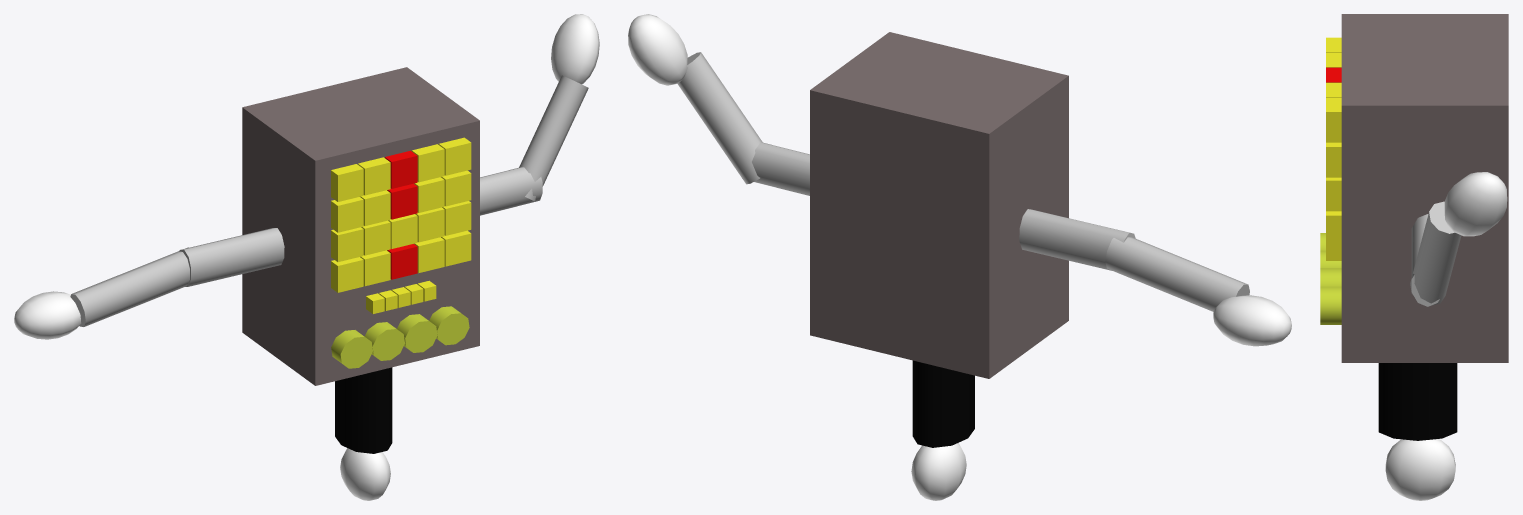
The model's file is meta4.obj.
3 views of the same model, side by side, from view 1: azimuth 30°, elevation 25°; view 2: azimuth 150°, elevation 25°; view 3: azimuth 270°, elevation 25° (orthographic). The views are drawn at different scales.
Visible parts, largest first — view 1: 037_Box, 007_Cylinder_4_-_baked, 002_Cylinder_8, 001_Cylinder_7, 000_Cylinder_6, 005_Sphere_1, 003_Sphere_2, 004_Cylinder_5, 006_Sphere, 010_Cylinder_1, 008_Cylinder_2, 009_Cylinder_3 (+21 smaller); view 2: 037_Box, 002_Cylinder_8, 007_Cylinder_4_-_baked, 000_Cylinder_6, 001_Cylinder_7, 003_Sphere_2, 005_Sphere_1, 006_Sphere, 004_Cylinder_5; view 3: 037_Box, 007_Cylinder_4_-_baked, 006_Sphere, 005_Sphere_1, 000_Cylinder_6, 009_Cylinder_3, 004_Cylinder_5, 012_Box_26, 024_Box_11_-_baked, 027_Box_25, 036_Box_20, 008_Cylinder_2 (+6 smaller).
Part boxes in pixels (box(x1,y1,x2,y2)): 037_Box: box(242, 67, 479, 385); 007_Cylinder_4_-_baked: box(335, 367, 392, 453); 002_Cylinder_8: box(70, 247, 189, 326); 001_Cylinder_7: box(179, 228, 284, 286); 000_Cylinder_6: box(519, 75, 588, 201); 005_Sphere_1: box(551, 14, 599, 84); 003_Sphere_2: box(14, 291, 81, 339); 004_Cylinder_5: box(480, 167, 542, 215); 006_Sphere: box(340, 448, 390, 500); 010_Cylinder_1: box(331, 330, 372, 368); 008_Cylinder_2: box(397, 314, 437, 352); 009_Cylinder_3: box(429, 306, 469, 345); 037_Box: box(810, 32, 1068, 378); 002_Cylinder_8: box(1105, 237, 1249, 311); 007_Cylinder_4_-_baked: box(912, 360, 974, 447); 000_Cylinder_6: box(677, 52, 762, 184); 001_Cylinder_7: box(1019, 209, 1135, 270); 003_Sphere_2: box(1213, 295, 1291, 346); 005_Sphere_1: box(628, 14, 687, 85); 006_Sphere: box(911, 443, 966, 500); 004_Cylinder_5: box(752, 142, 809, 195); 037_Box: box(1341, 14, 1508, 362); 007_Cylinder_4_-_baked: box(1378, 363, 1457, 440); 006_Sphere: box(1385, 439, 1455, 500); 005_Sphere_1: box(1444, 172, 1507, 236); 000_Cylinder_6: box(1410, 201, 1461, 305); 009_Cylinder_3: box(1320, 286, 1341, 324); 004_Cylinder_5: box(1411, 214, 1439, 306); 012_Box_26: box(1326, 97, 1341, 142); 024_Box_11_-_baked: box(1326, 142, 1341, 177); 027_Box_25: box(1326, 211, 1341, 246); 036_Box_20: box(1326, 177, 1341, 211); 008_Cylinder_2: box(1320, 268, 1341, 286).
Bounding box in the file's own units: 75.59 × 49.33 × 18.3.
